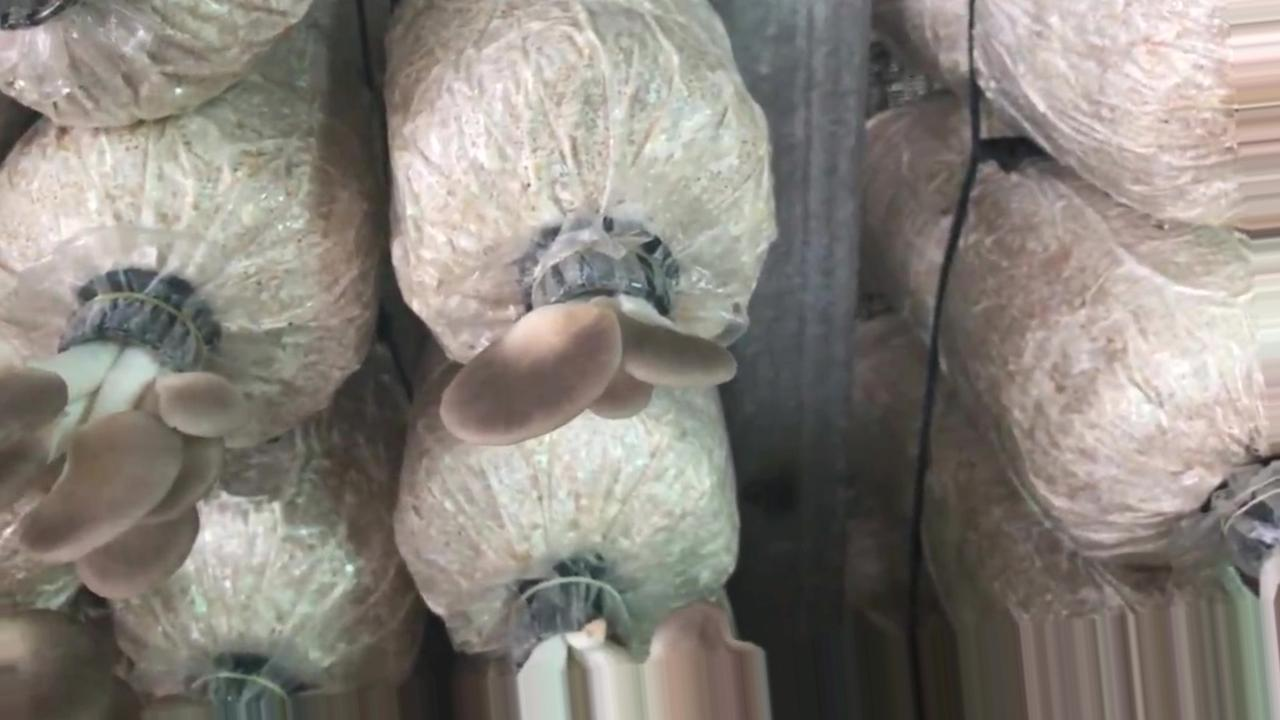nam: (1, 287, 246, 593), (460, 237, 738, 443)
